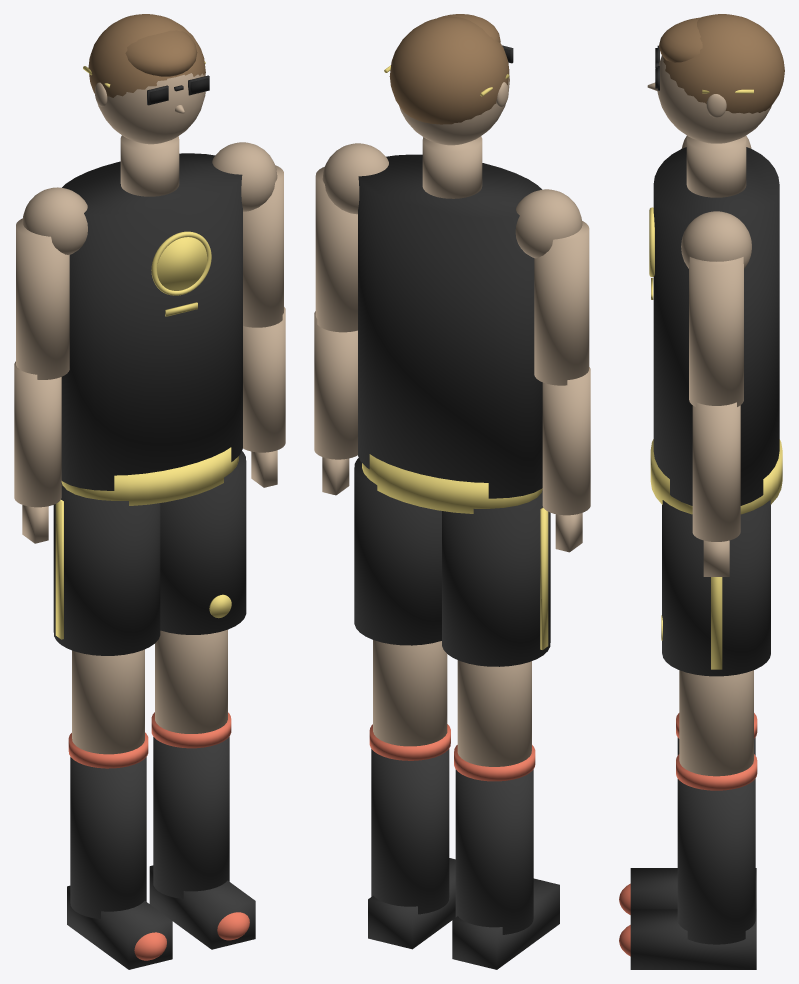
Rendered from GemD.glb.
3 renders of one model, left to right at view 1: azimuth 30°, elevation 25°; view 2: azimuth 150°, elevation 25°; view 3: azimuth 270°, elevation 25°, orthographic.
Visible parts, largest first — view 1: GemD_Model; view 2: GemD_Model; view 3: GemD_Model.
Part boxes in pixels (x1,y1,x2,y2): GemD_Model: (14, 14, 285, 969); GemD_Model: (314, 14, 590, 969); GemD_Model: (619, 14, 784, 969).
Size of the model in its own units: 0.544 by 1.77 by 0.2894.
